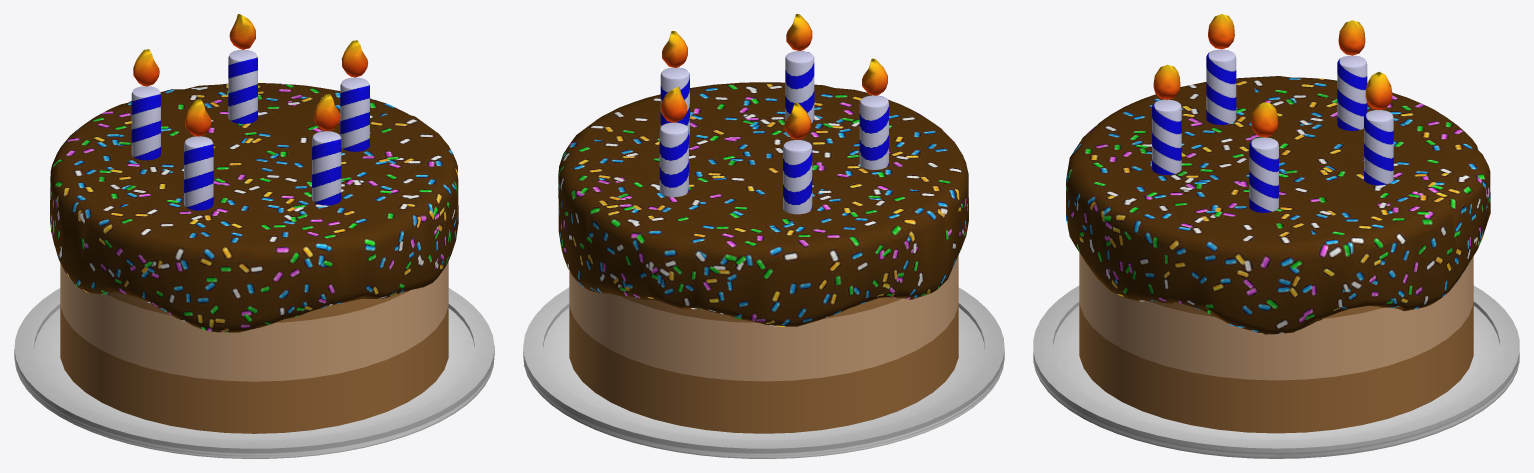
The model's file is cake.glb.
3 renders of one model, left to right at view 1: azimuth 30°, elevation 25°; view 2: azimuth 150°, elevation 25°; view 3: azimuth 270°, elevation 25°, orthographic.
Visible parts, largest first — view 1: cake; view 2: cake; view 3: cake.
Boxes of the visible parts, x1=… form: cake: x1=14, y1=14, x2=494, y2=458; cake: x1=523, y1=14, x2=1004, y2=458; cake: x1=1033, y1=14, x2=1519, y2=458.
Bounding box in the file's own units: 0.2627 × 0.1798 × 0.2624.
1 material, 1 textured.
